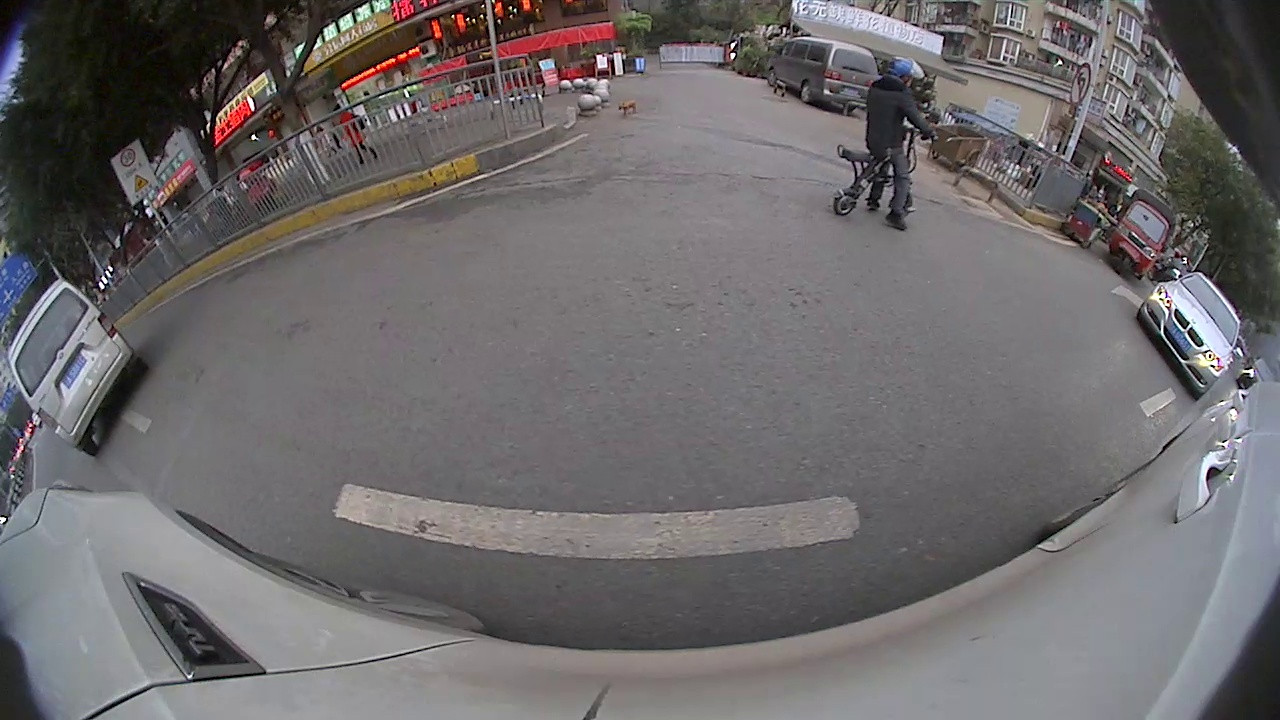car: (5, 272, 149, 459), (1134, 265, 1247, 405), (765, 36, 881, 120)
rear: (833, 186, 860, 217)
rider: (829, 54, 946, 236), (1103, 186, 1179, 287)
